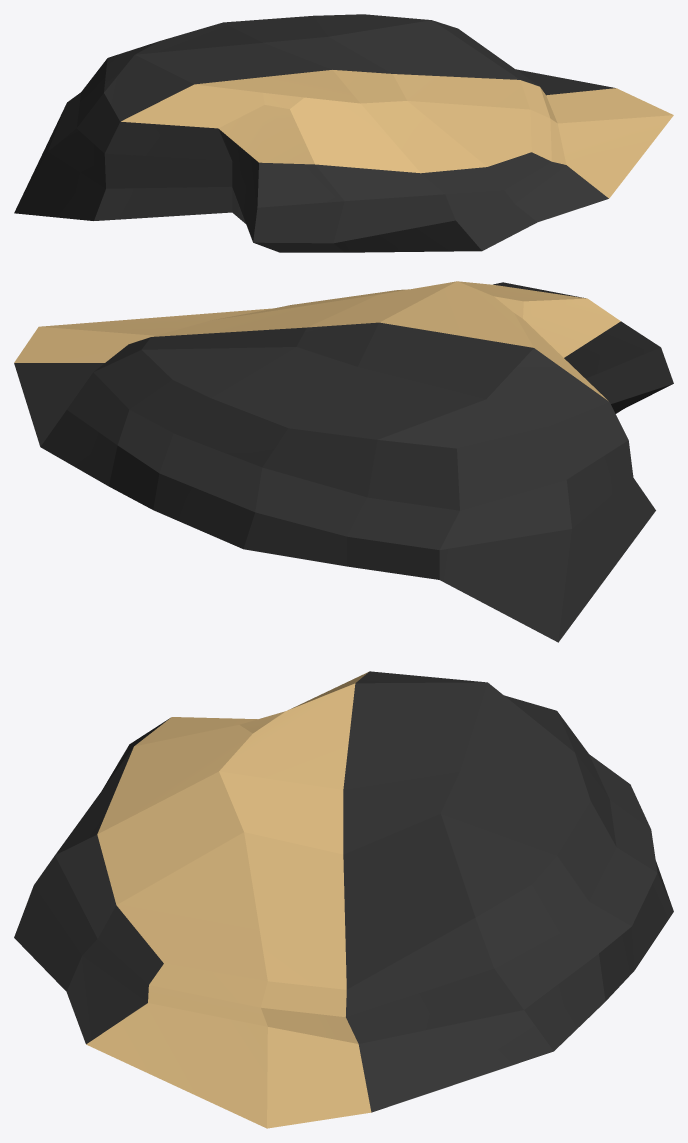
Rendered from DetailedPlaneSand.obj.
The picture shows the model from 3 angles, top to bottom: view 1: azimuth 30°, elevation 25°; view 2: azimuth 150°, elevation 25°; view 3: azimuth 270°, elevation 25°; orthographic projection. The views are drawn at different scales.
Visible parts, largest first — view 1: Cube_Cube.001; view 2: Cube_Cube.001; view 3: Cube_Cube.001.
Part boxes in pixels (bbox=[...]): Cube_Cube.001: bbox=[14, 14, 673, 252]; Cube_Cube.001: bbox=[14, 281, 673, 642]; Cube_Cube.001: bbox=[14, 671, 673, 1128].
Size of the model in its own units: 0.3017 by 0.0858 by 0.2357.
